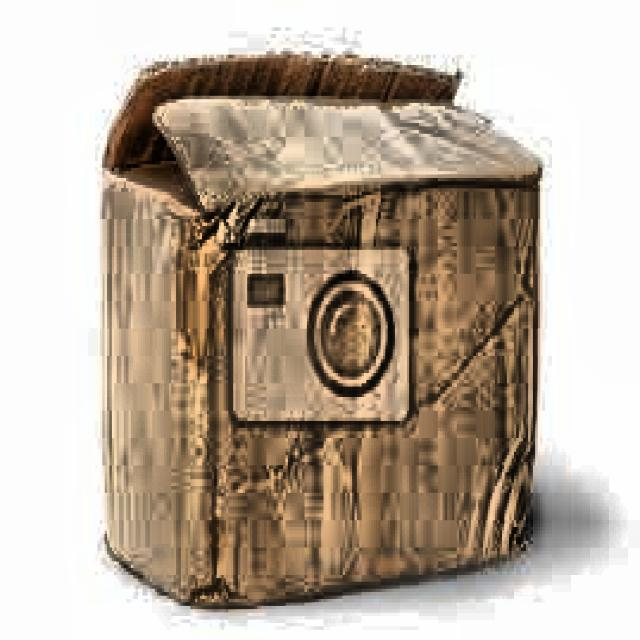Cardbox: (68, 30, 538, 628)
